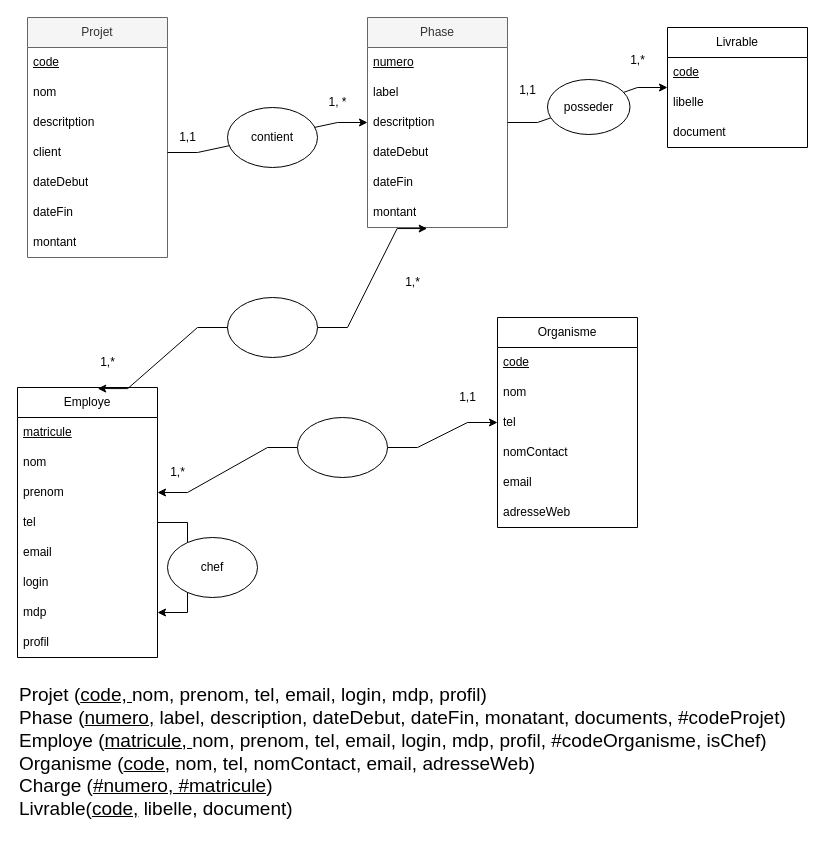
Some shapes in this 825 by 845 pixel diagram are drawn without their labels. The shapes that lost their labels are listed below. From the top down, each one's centre as x and y in pixels, then its label:
point (272, 327): chargé
point (342, 447): appartient
